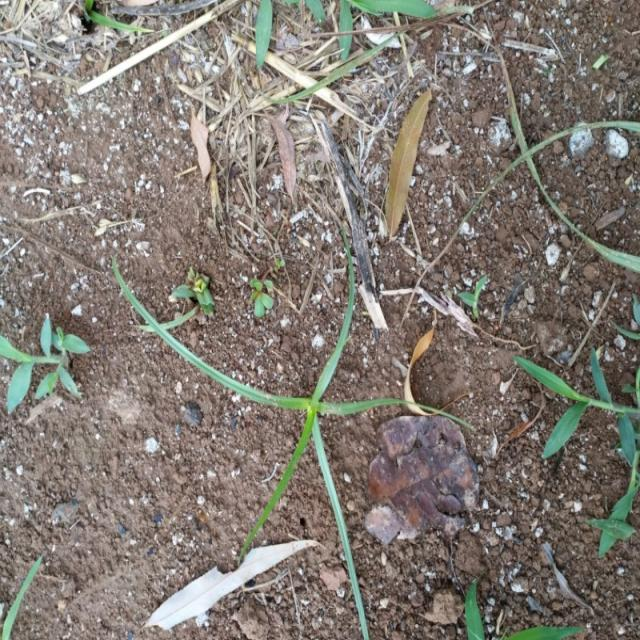sedge: (134, 254, 443, 616)
